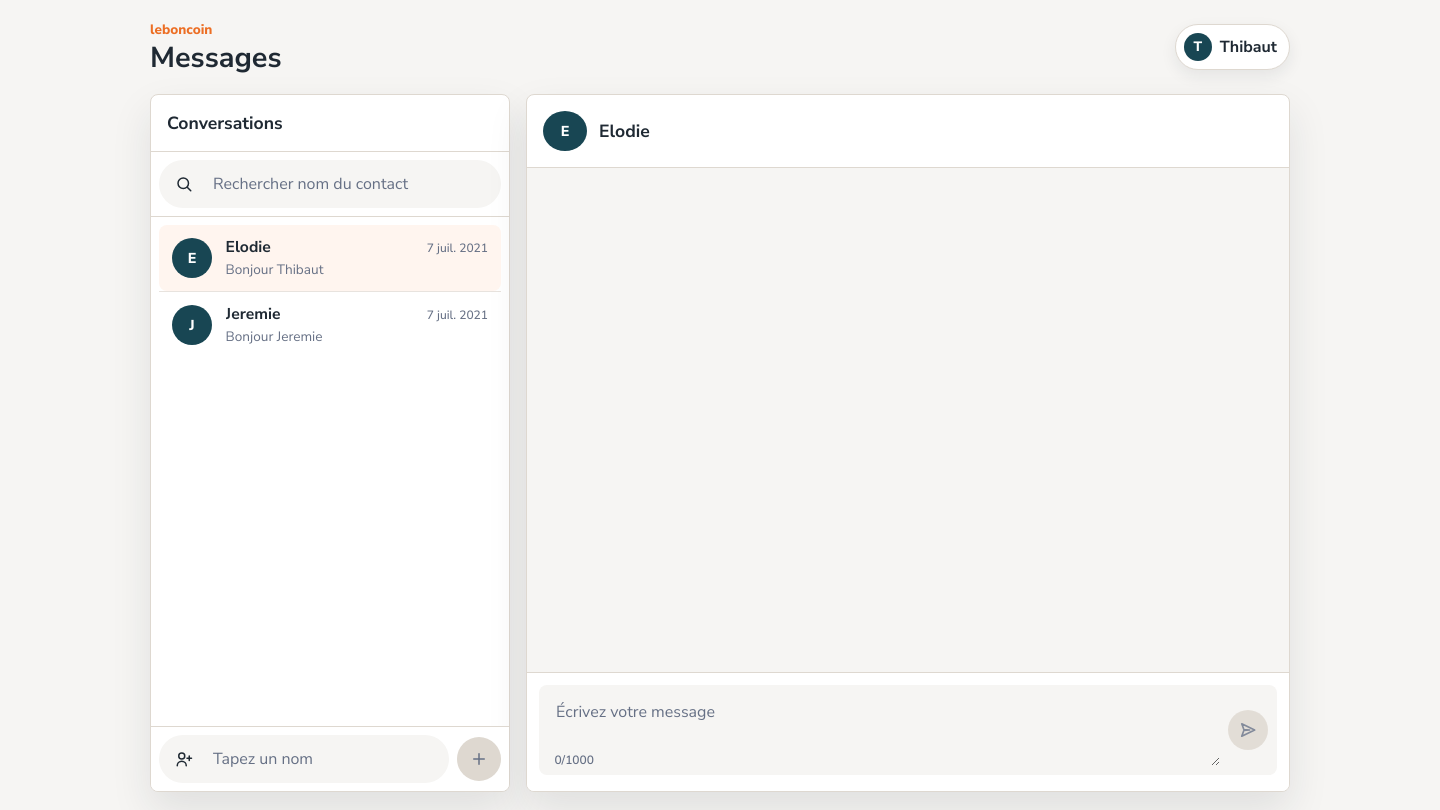
Test case: App › keeps the draft when sending fails
Type "Message a conserver" into the text box named "Nouveau message" at (884, 730), box [548, 694, 1220, 766]
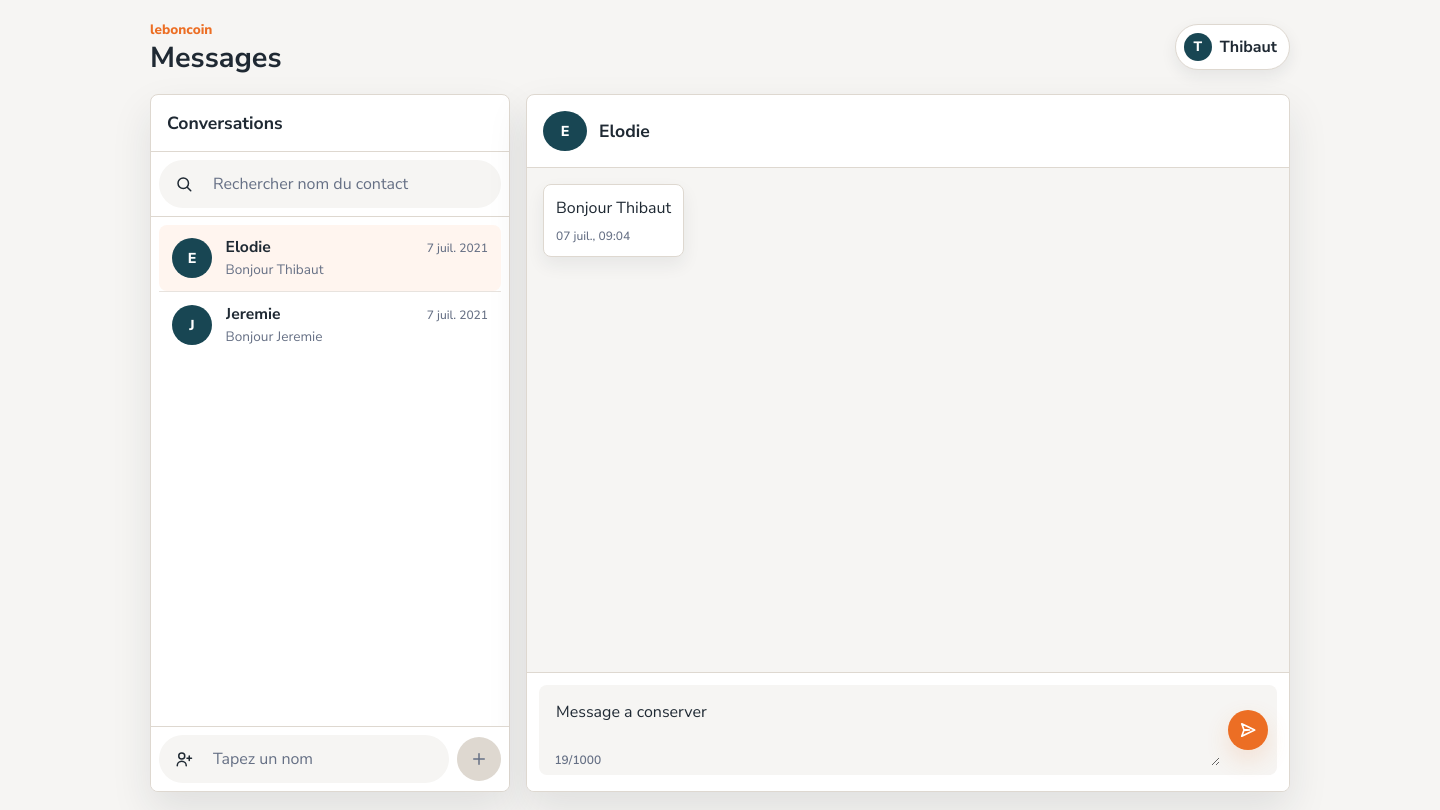
Click the button named "Envoyer" at (1248, 730), box [1228, 710, 1268, 750]
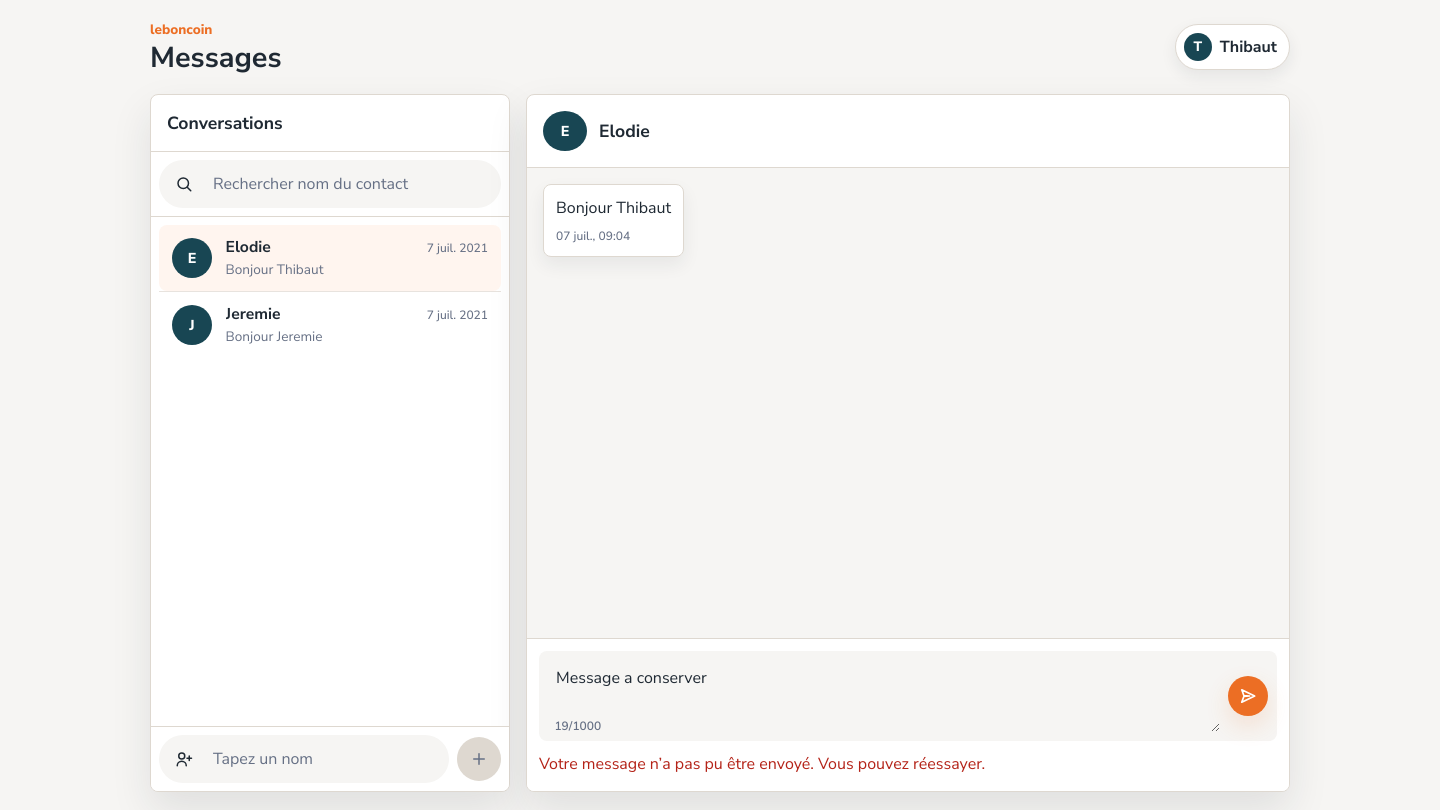
Now the message shows "Votre message", box [539, 753, 985, 775]
